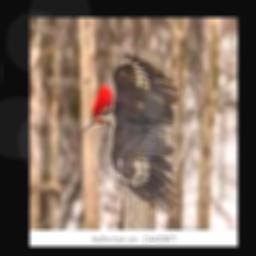Woodpecker: (82, 53, 182, 217)
